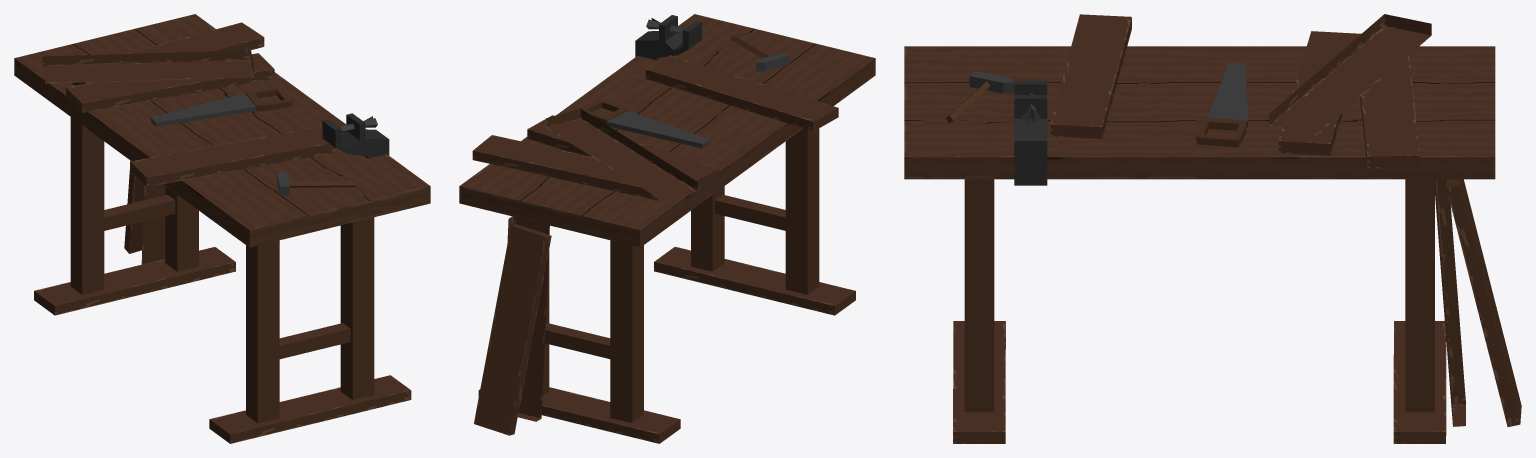
File: stol.fbx
3 views of the same model, side by side, from view 1: azimuth 30°, elevation 25°; view 2: azimuth 150°, elevation 25°; view 3: azimuth 270°, elevation 25° (orthographic). The views are drawn at different scales.
Parts seen in each view (by area): view 1: Cube.001; view 2: Cube.001; view 3: Cube.001.
Part boxes in pixels (x1,y1,x2,y2): Cube.001: [14, 14, 430, 443]; Cube.001: [459, 14, 875, 443]; Cube.001: [904, 14, 1521, 443].
Bounding box in the file's own units: 128 × 140 × 235.
4 materials, 2 textured.
